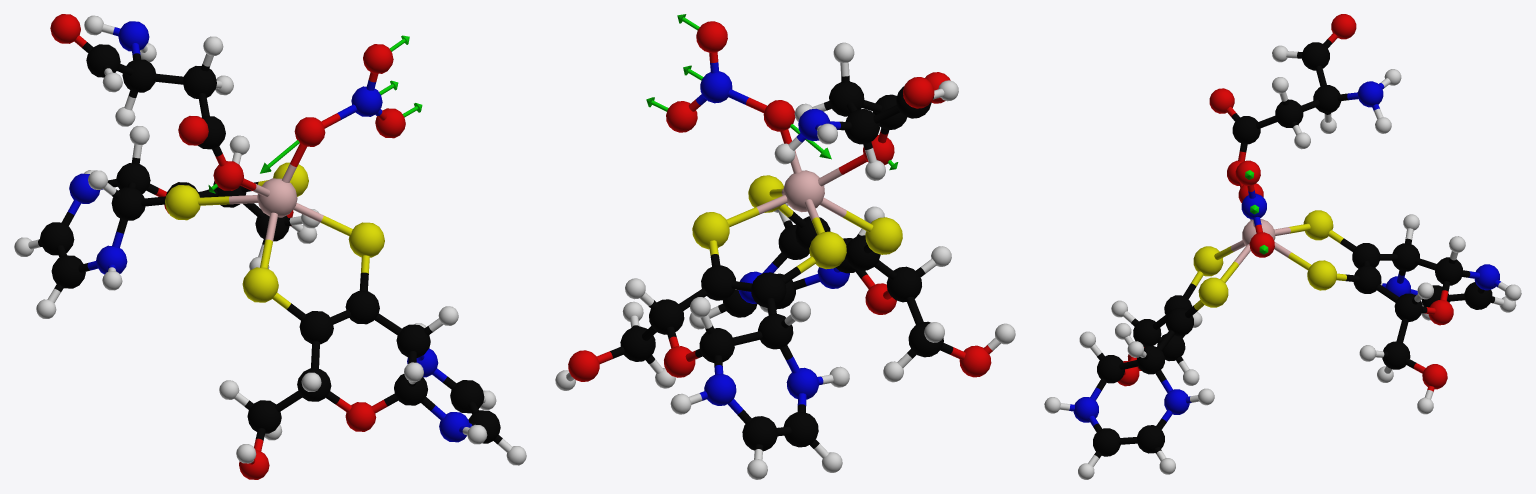
Rendered from nargl_0h2o_ts.glb.
3 views of the same model, side by side, from view 1: azimuth 30°, elevation 25°; view 2: azimuth 150°, elevation 25°; view 3: azimuth 270°, elevation 25° (orthographic). The views are drawn at different scales.
Parts seen in each view (by area): view 1: frame_18; view 2: frame_18; view 3: frame_18.
Part boxes in pixels (box(x1,y1,x2,y2)): frame_18: box(14, 14, 526, 479); frame_18: box(555, 14, 1015, 479); frame_18: box(1044, 14, 1521, 479).
Size of the model in its own units: 1.01 by 1.17 by 1.48.
